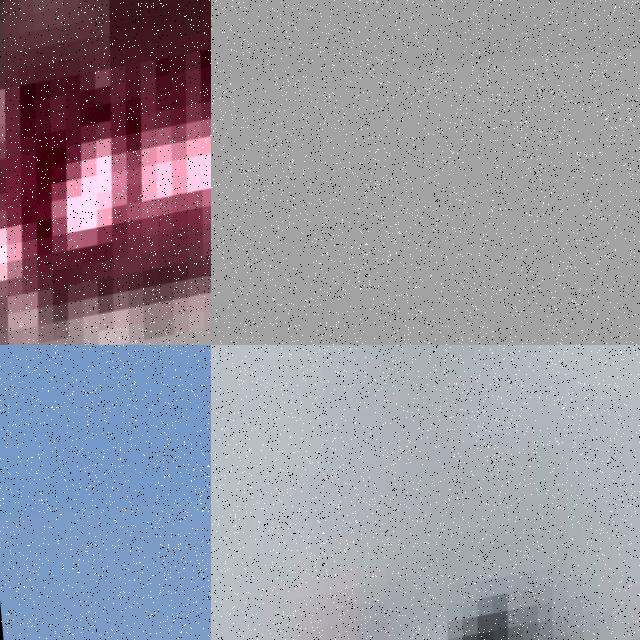0: (0, 0, 211, 345)
drone: (211, 345, 640, 640)
